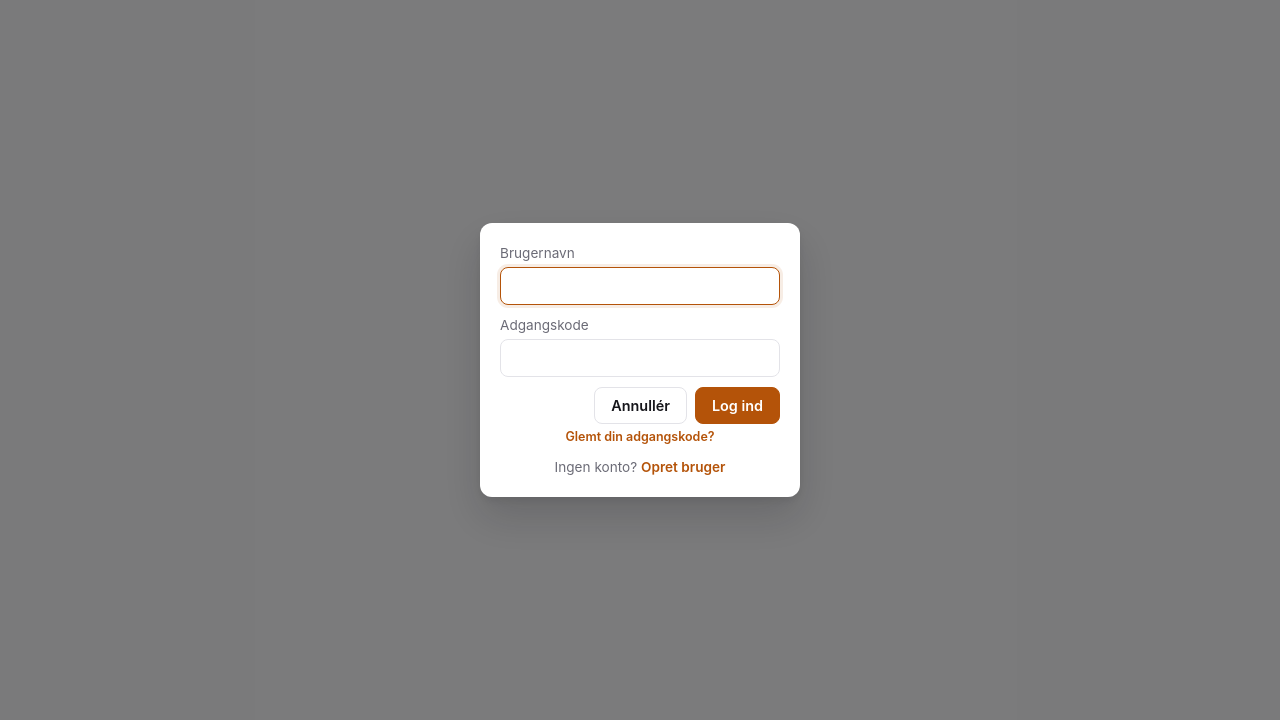
Test case: PublicLoginPanel — glemt adgangskode (feature #205) › skifter til 'glemt adgangskode' og sender e-mailen til backend
This screenshot has width=1280, height=720.
Click the button "Glemt din adgangskode?": [640, 437] box [566,429,715,444]
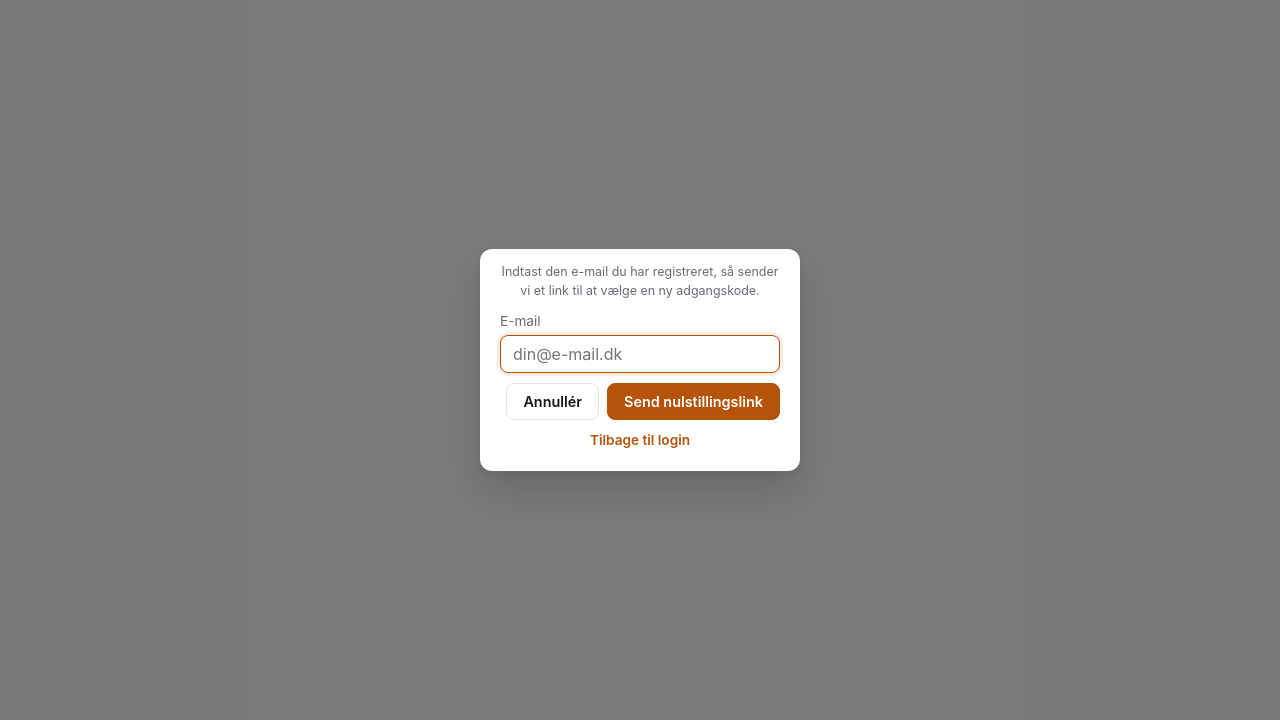
In the field labelled "E-mail": [640, 354] box [500,335,780,373], type "mig@example.com"
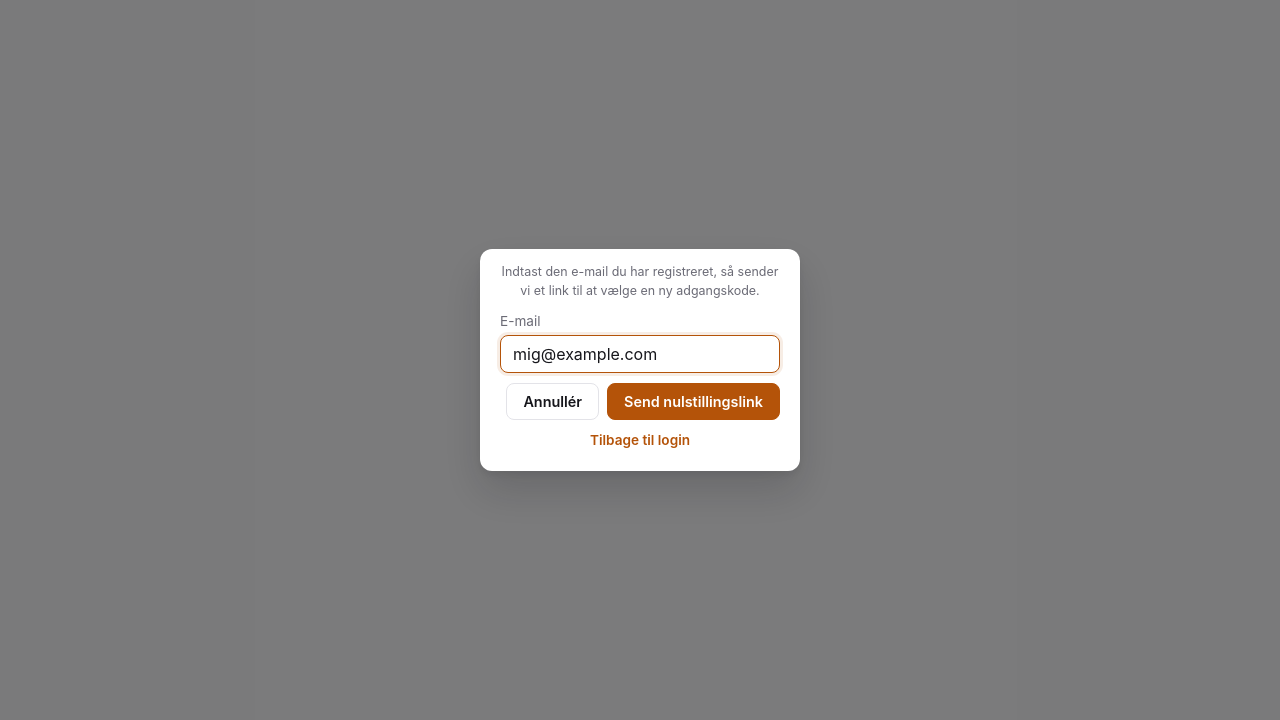
Click the button "Send nulstillingslink": [694, 402] box [607,383,780,420]
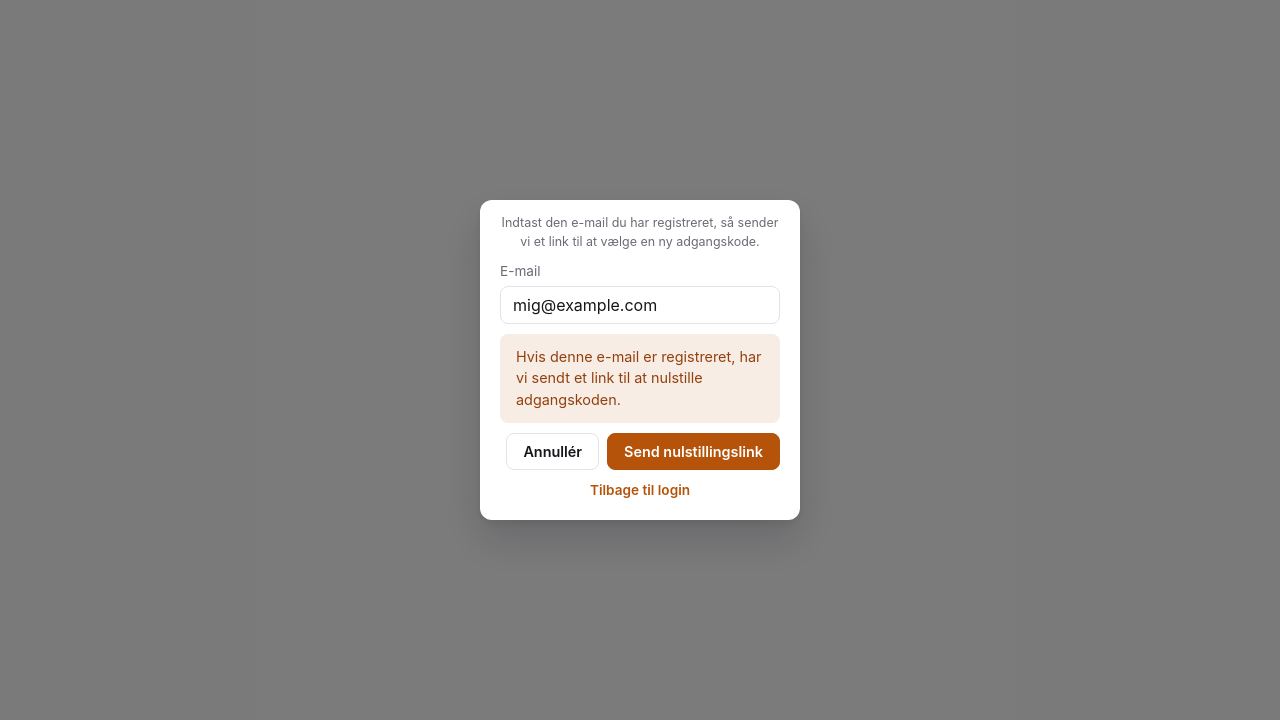
Result: the text "Hvis denne e-mail er registreret" is shown at [516,348,761,408]
